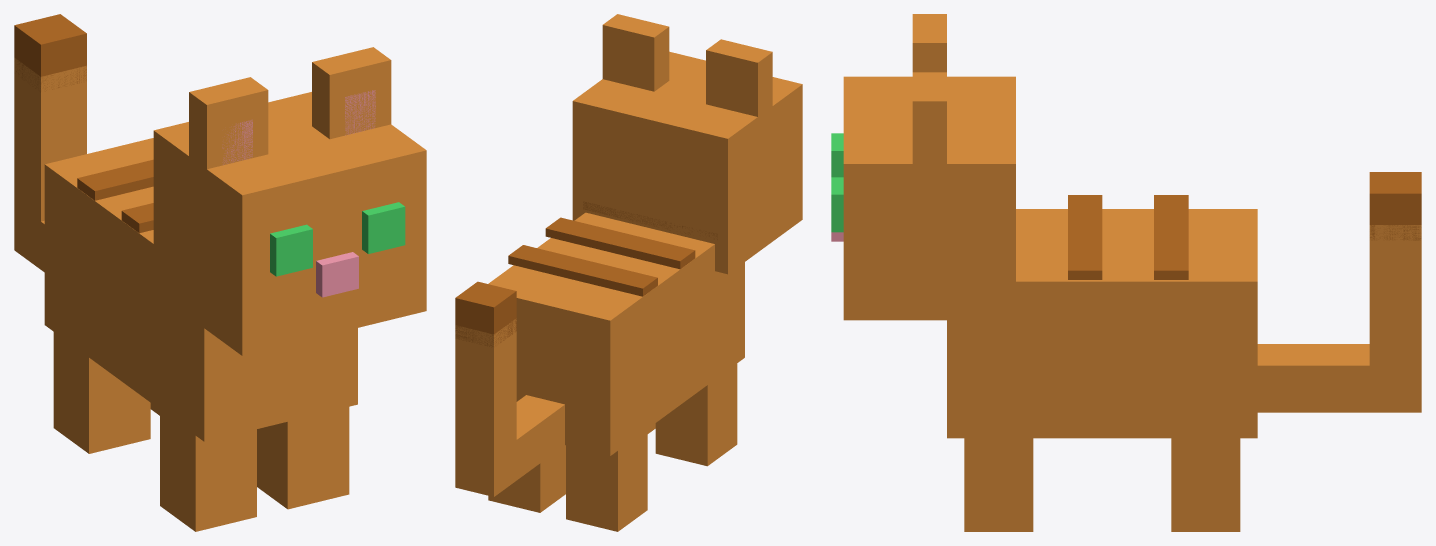
File: pet_cat.obj
The picture shows the model from 3 angles, left to right: view 1: azimuth 30°, elevation 25°; view 2: azimuth 150°, elevation 25°; view 3: azimuth 270°, elevation 25°; orthographic projection. The views are drawn at different scales.
Visible parts, largest first — view 1: pet_cat; view 2: pet_cat; view 3: pet_cat.
Boxes of the visible parts, x1,y1,x2,y2 form: pet_cat: (14,14,426,531); pet_cat: (455,14,802,531); pet_cat: (831,14,1421,531).
Size of the model in its own units: 0.375 by 0.875 by 1.07.
